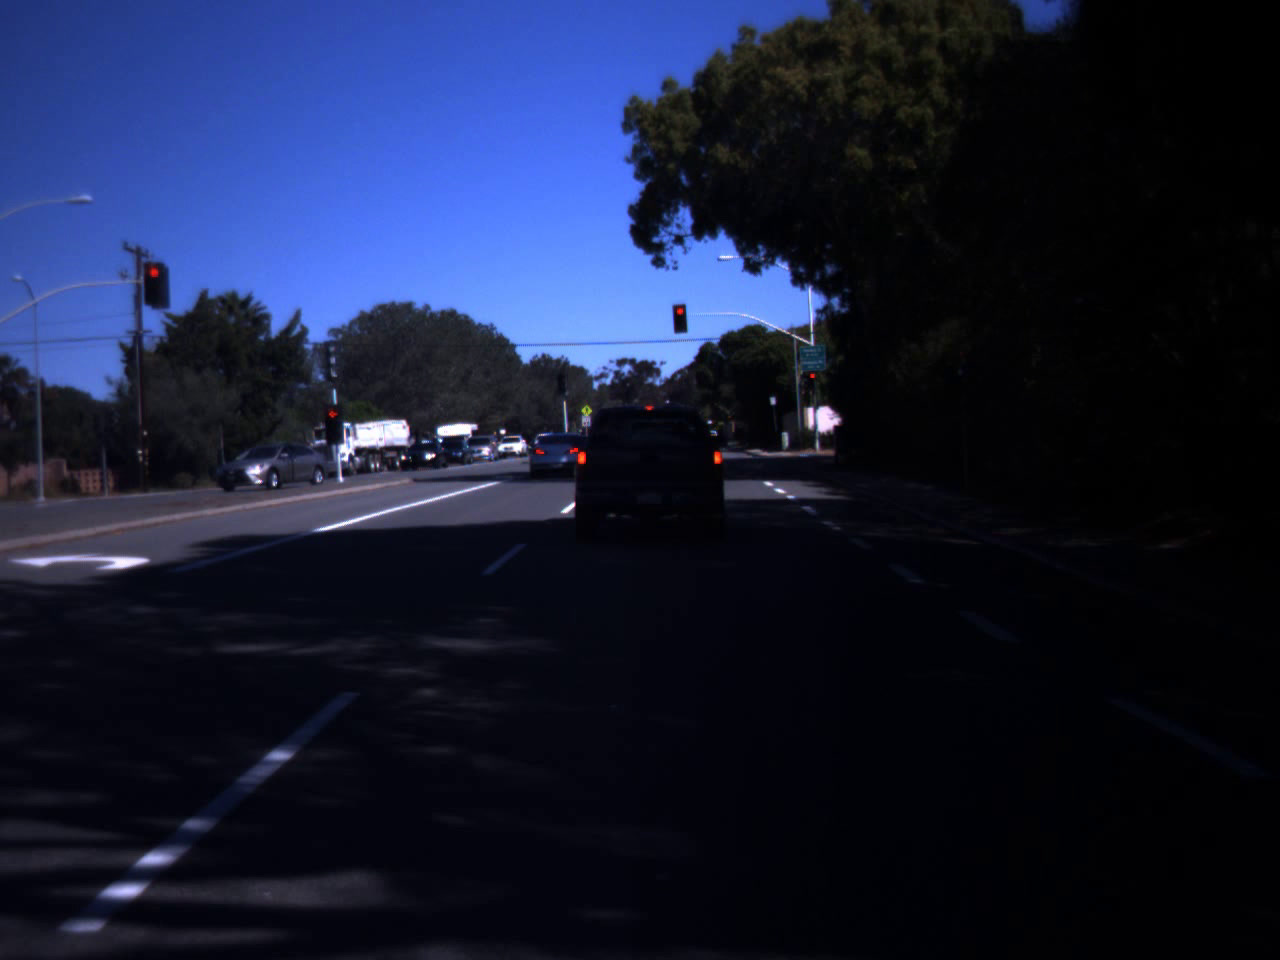stop: (146, 267, 164, 294), (324, 409, 342, 431), (673, 306, 688, 328), (806, 372, 818, 390)
